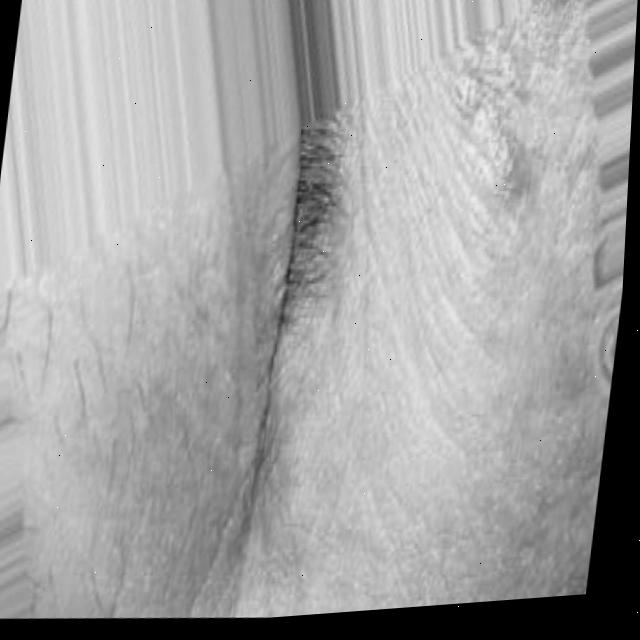Rosacea: (403, 59, 621, 524)
